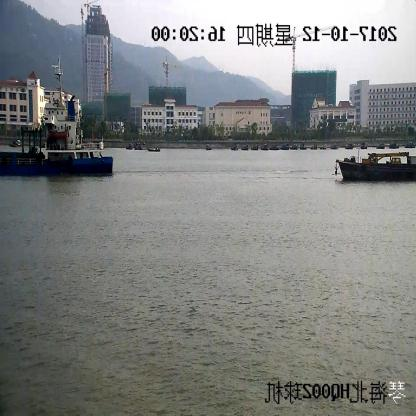Bulk Carrier: (1, 59, 112, 178)
